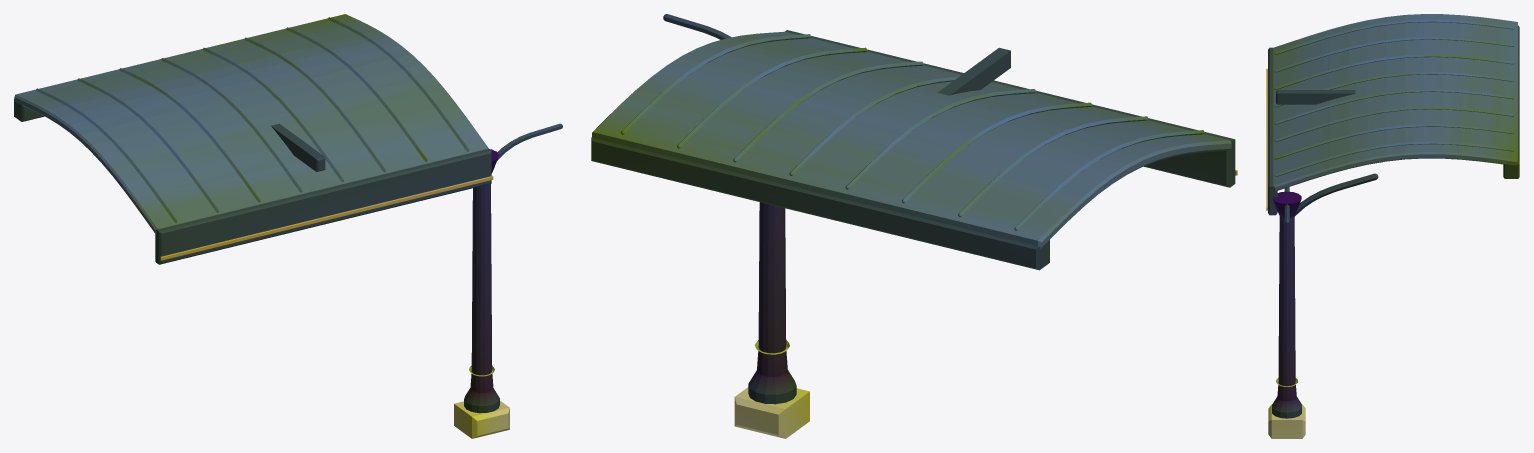
File: GS_EntranceCanopy_6m.glb
3 views of the same model, side by side, from view 1: azimuth 30°, elevation 25°; view 2: azimuth 150°, elevation 25°; view 3: azimuth 270°, elevation 25° (orthographic). The views are drawn at different scales.
Visible parts, largest first — view 1: GS_EntranceCanopy_6m; view 2: GS_EntranceCanopy_6m; view 3: GS_EntranceCanopy_6m.
Boxes of the visible parts, x1=… form: GS_EntranceCanopy_6m: x1=14, y1=14, x2=562, y2=438; GS_EntranceCanopy_6m: x1=591, y1=14, x2=1237, y2=438; GS_EntranceCanopy_6m: x1=1266, y1=14, x2=1519, y2=438.
Bounding box in the file's own units: 7.45 × 5.63 × 4.61.
